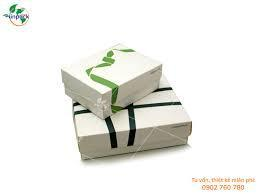box: (72, 73, 192, 160), (60, 43, 162, 120)
